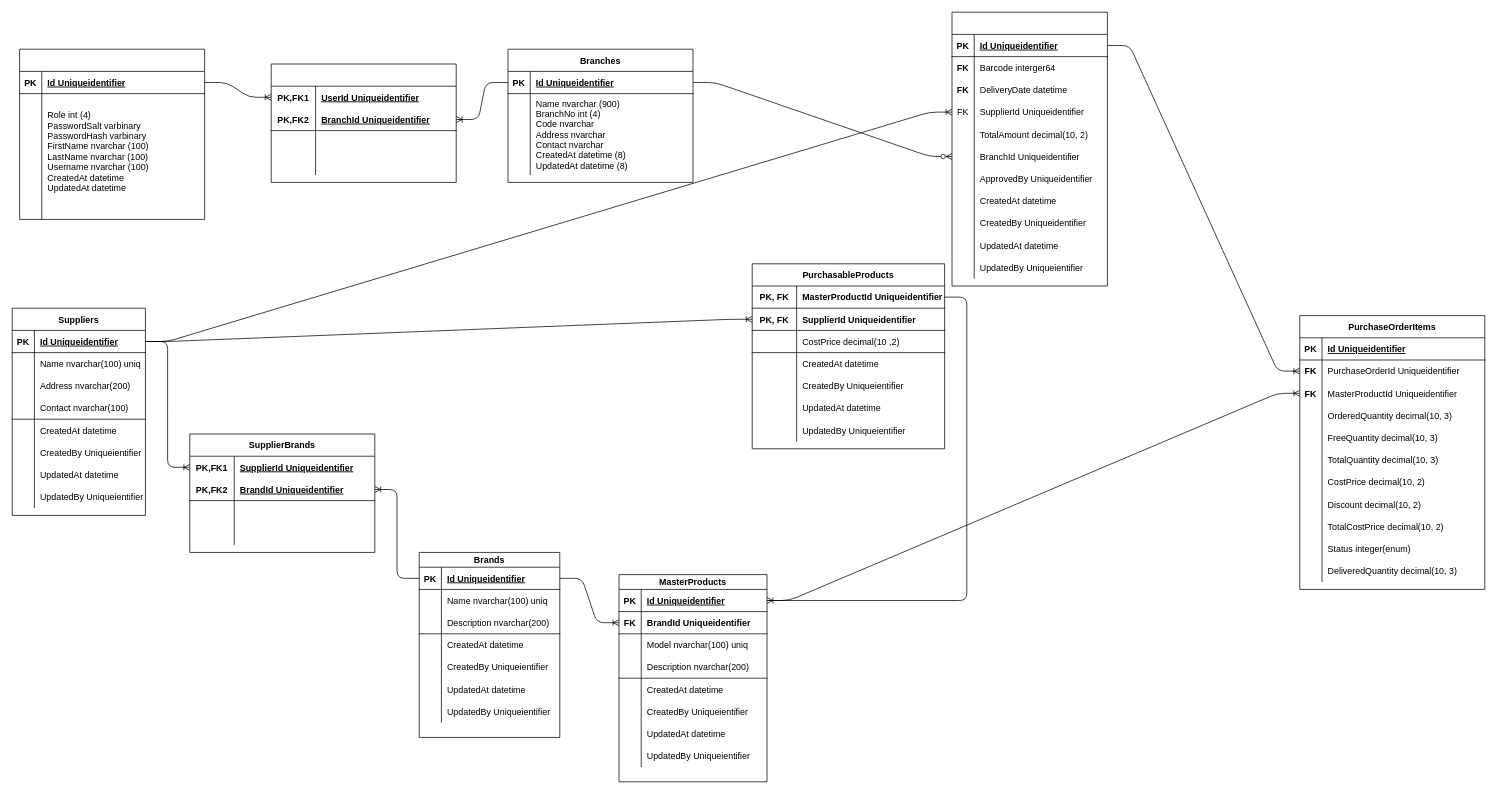
This 1497x794 diagram has some shape labels left out. Here are the shapes that lost their labels. From the top down, the box of each, then its label:
(19, 48, 205, 219): Users
(270, 63, 456, 182): UserBranches
(951, 11, 1107, 286): PurchaseOrders
